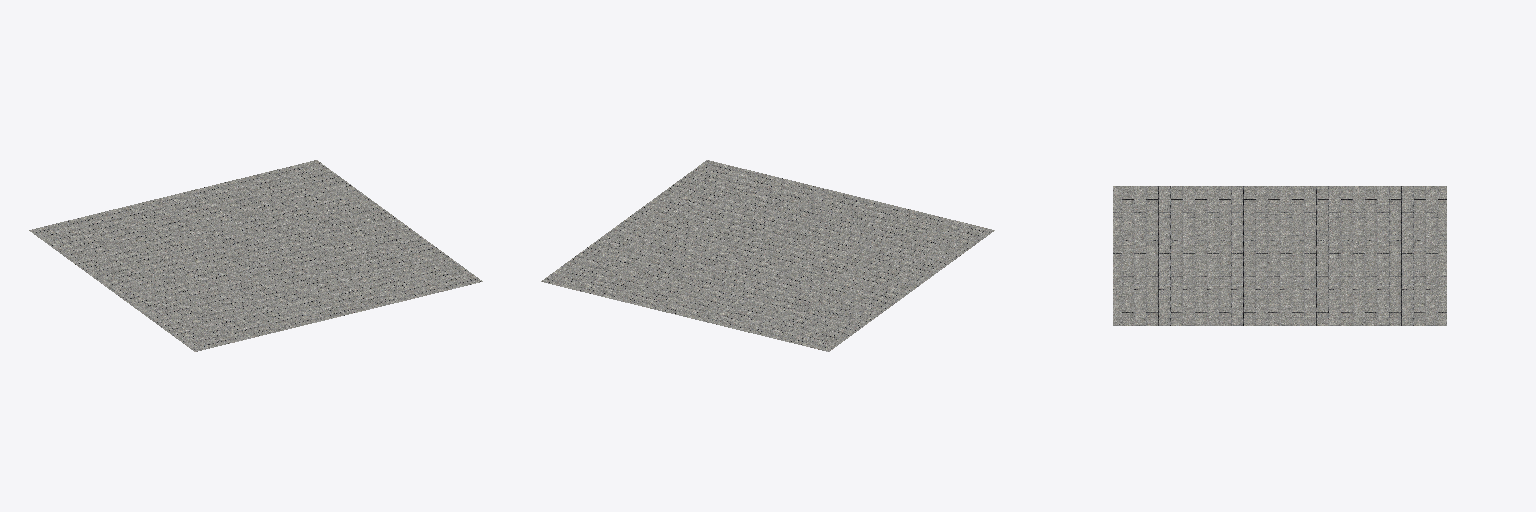
3 renders of one model, left to right at view 1: azimuth 30°, elevation 25°; view 2: azimuth 150°, elevation 25°; view 3: azimuth 270°, elevation 25°, orthographic.
Parts seen in each view (by area): view 1: Plane; view 2: Plane; view 3: Plane.
Part boxes in pixels (left/top/right/bottom): Plane: left=29, top=160, right=482, bottom=351; Plane: left=541, top=160, right=994, bottom=351; Plane: left=1113, top=186, right=1446, bottom=325.
Bounding box in the file's own units: 23.38 × 0 × 23.38.
1 materials, 1 textured.